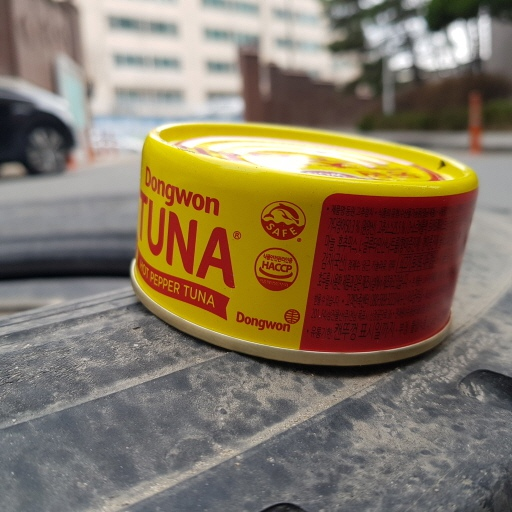Metal_1: (130, 119, 479, 369)
